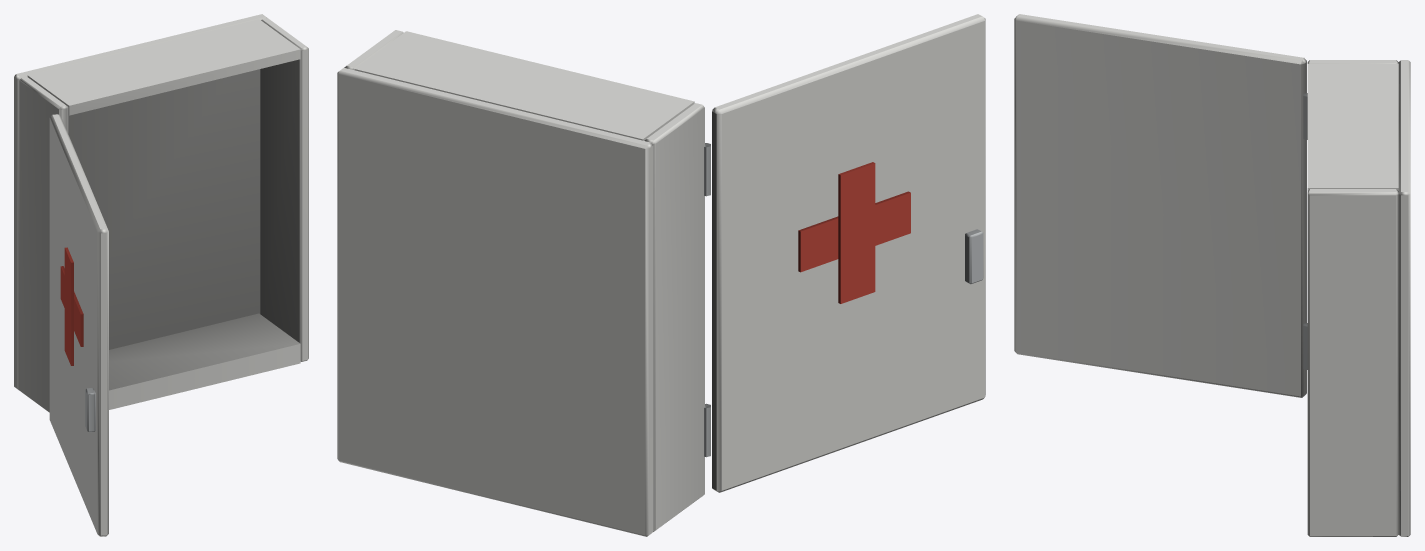
Rendered from med_cabinet.glb.
3 renders of one model, left to right at view 1: azimuth 30°, elevation 25°; view 2: azimuth 150°, elevation 25°; view 3: azimuth 270°, elevation 25°, orthographic. The views are drawn at different scales.
Visible parts, largest first — view 1: static; view 2: static; view 3: static.
Part boxes in pixels (bbox=[...]): static: bbox=[14, 14, 308, 536]; static: bbox=[337, 14, 985, 536]; static: bbox=[1014, 14, 1410, 536].
Bounding box in the file's own units: 0.5556 × 0.48 × 0.4998.
